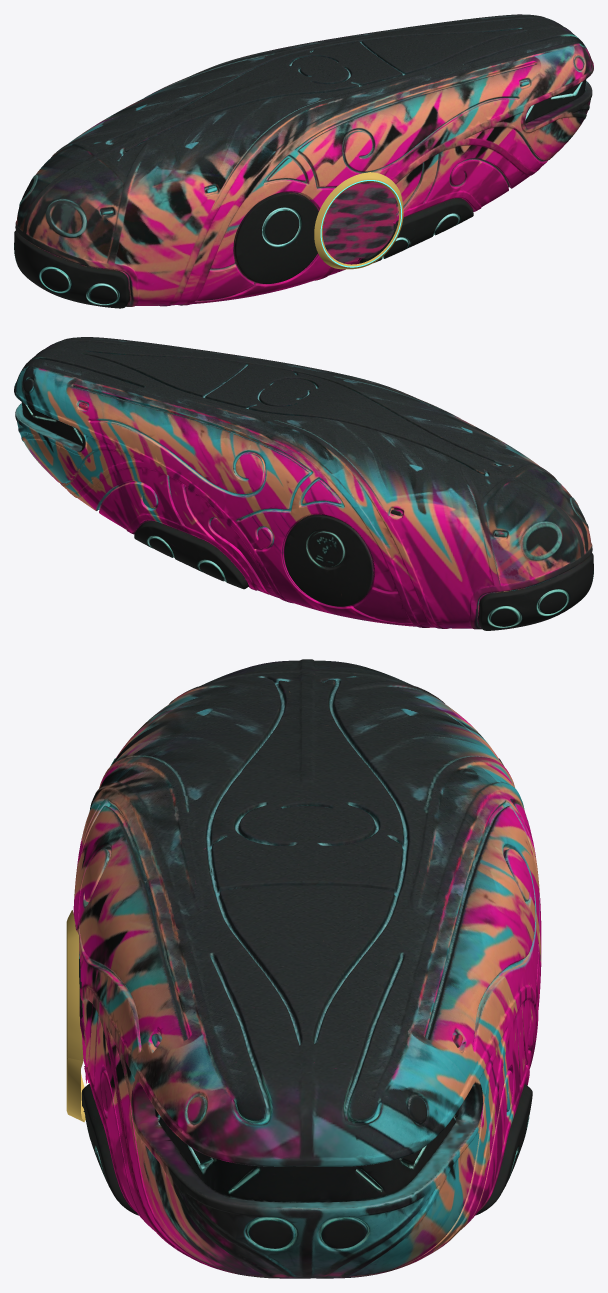
File: starpod_camo_v2.glb
3 renders of one model, top to bottom at view 1: azimuth 30°, elevation 25°; view 2: azimuth 150°, elevation 25°; view 3: azimuth 270°, elevation 25°, orthographic. The views are drawn at different scales.
Size of the model in its own units: 2 by 0.6112 by 0.7399.
2 materials, 2 textured.
